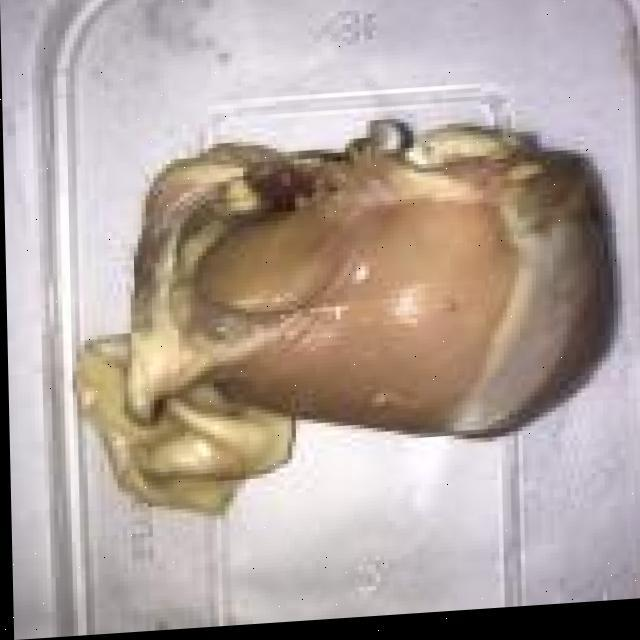breast: (94, 116, 607, 508)
